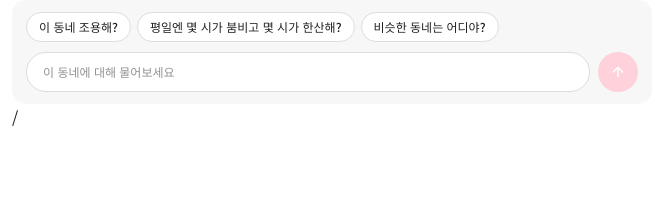
Test: ChatThread › 503 → 다시 시도 → 성공
The width and height of the screenshot is (655, 221).
Type "이 동네 조용해?" into the field named "이 동네에 물어보기" at (308, 72), box [43,64,573,80]
Then press Enter
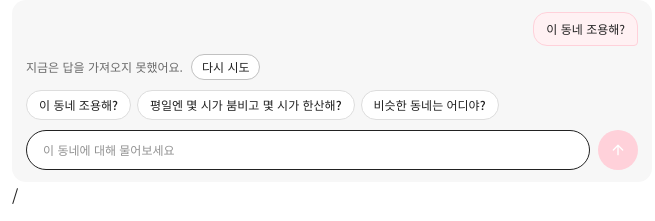
Expected: the text "지금은 답을 가져오지 못했어요." is shown, [26,58,183,75]
Click the button "다시 시도" at (226, 67), box [191,54,260,80]
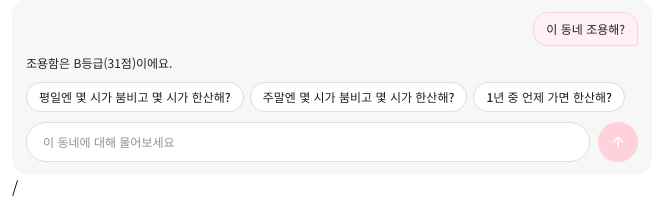
Expected: the text "조용함은 B등급(31점)이에요." is shown, [26,54,172,71]
Expected: the text "지금은 답을 가져오지 못했어요." is gone
